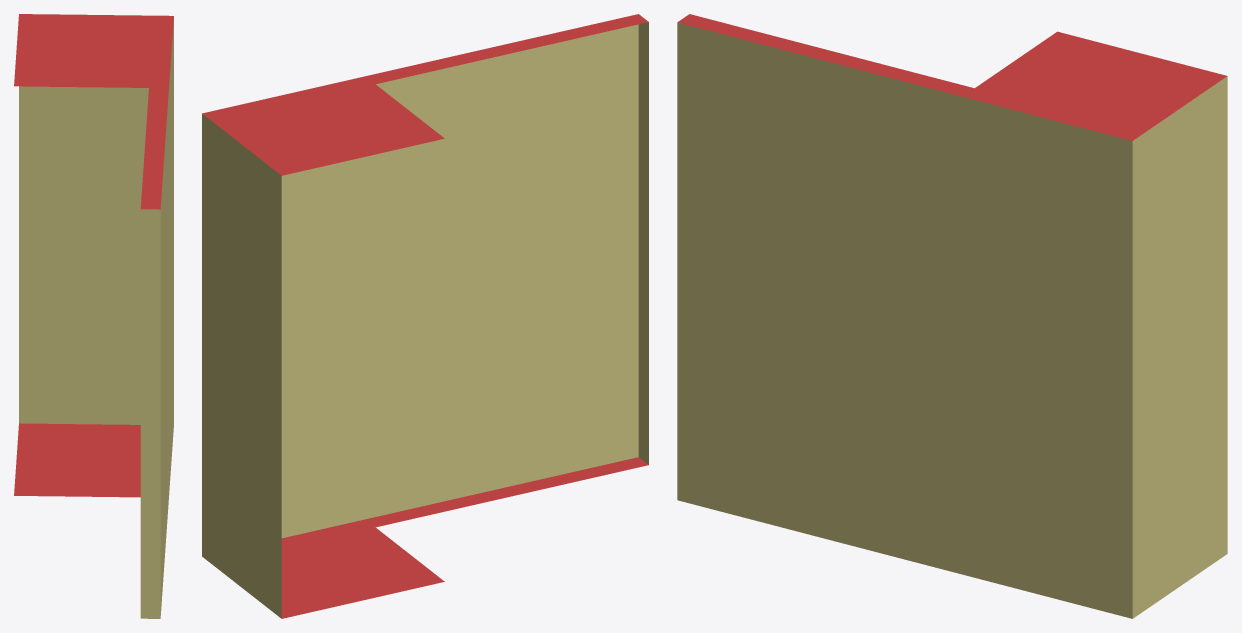
3 renders of one model, left to right at view 1: azimuth 30°, elevation 25°; view 2: azimuth 150°, elevation 25°; view 3: azimuth 270°, elevation 25°, orthographic. The views are drawn at different scales.
Size of the model in its own units: 3.22 by 5.89 by 5.65.
